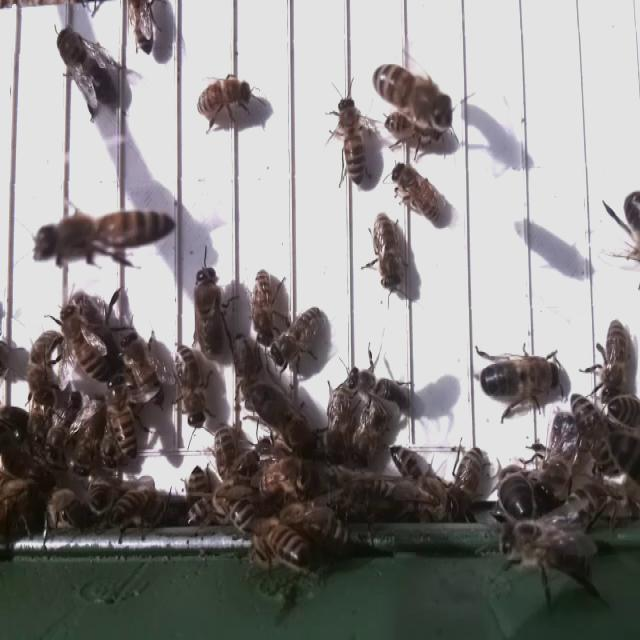Drone: (50, 23, 120, 114), (474, 352, 564, 405), (190, 263, 228, 364)
Worker: (31, 211, 174, 261), (370, 58, 452, 124), (58, 302, 108, 385), (344, 360, 413, 412), (121, 331, 166, 410), (172, 341, 206, 435), (336, 92, 368, 189), (232, 328, 264, 424), (600, 312, 631, 411), (25, 327, 60, 412), (275, 303, 324, 363), (393, 165, 444, 221), (107, 381, 140, 467), (192, 76, 253, 122), (373, 212, 405, 297), (250, 267, 276, 348)
